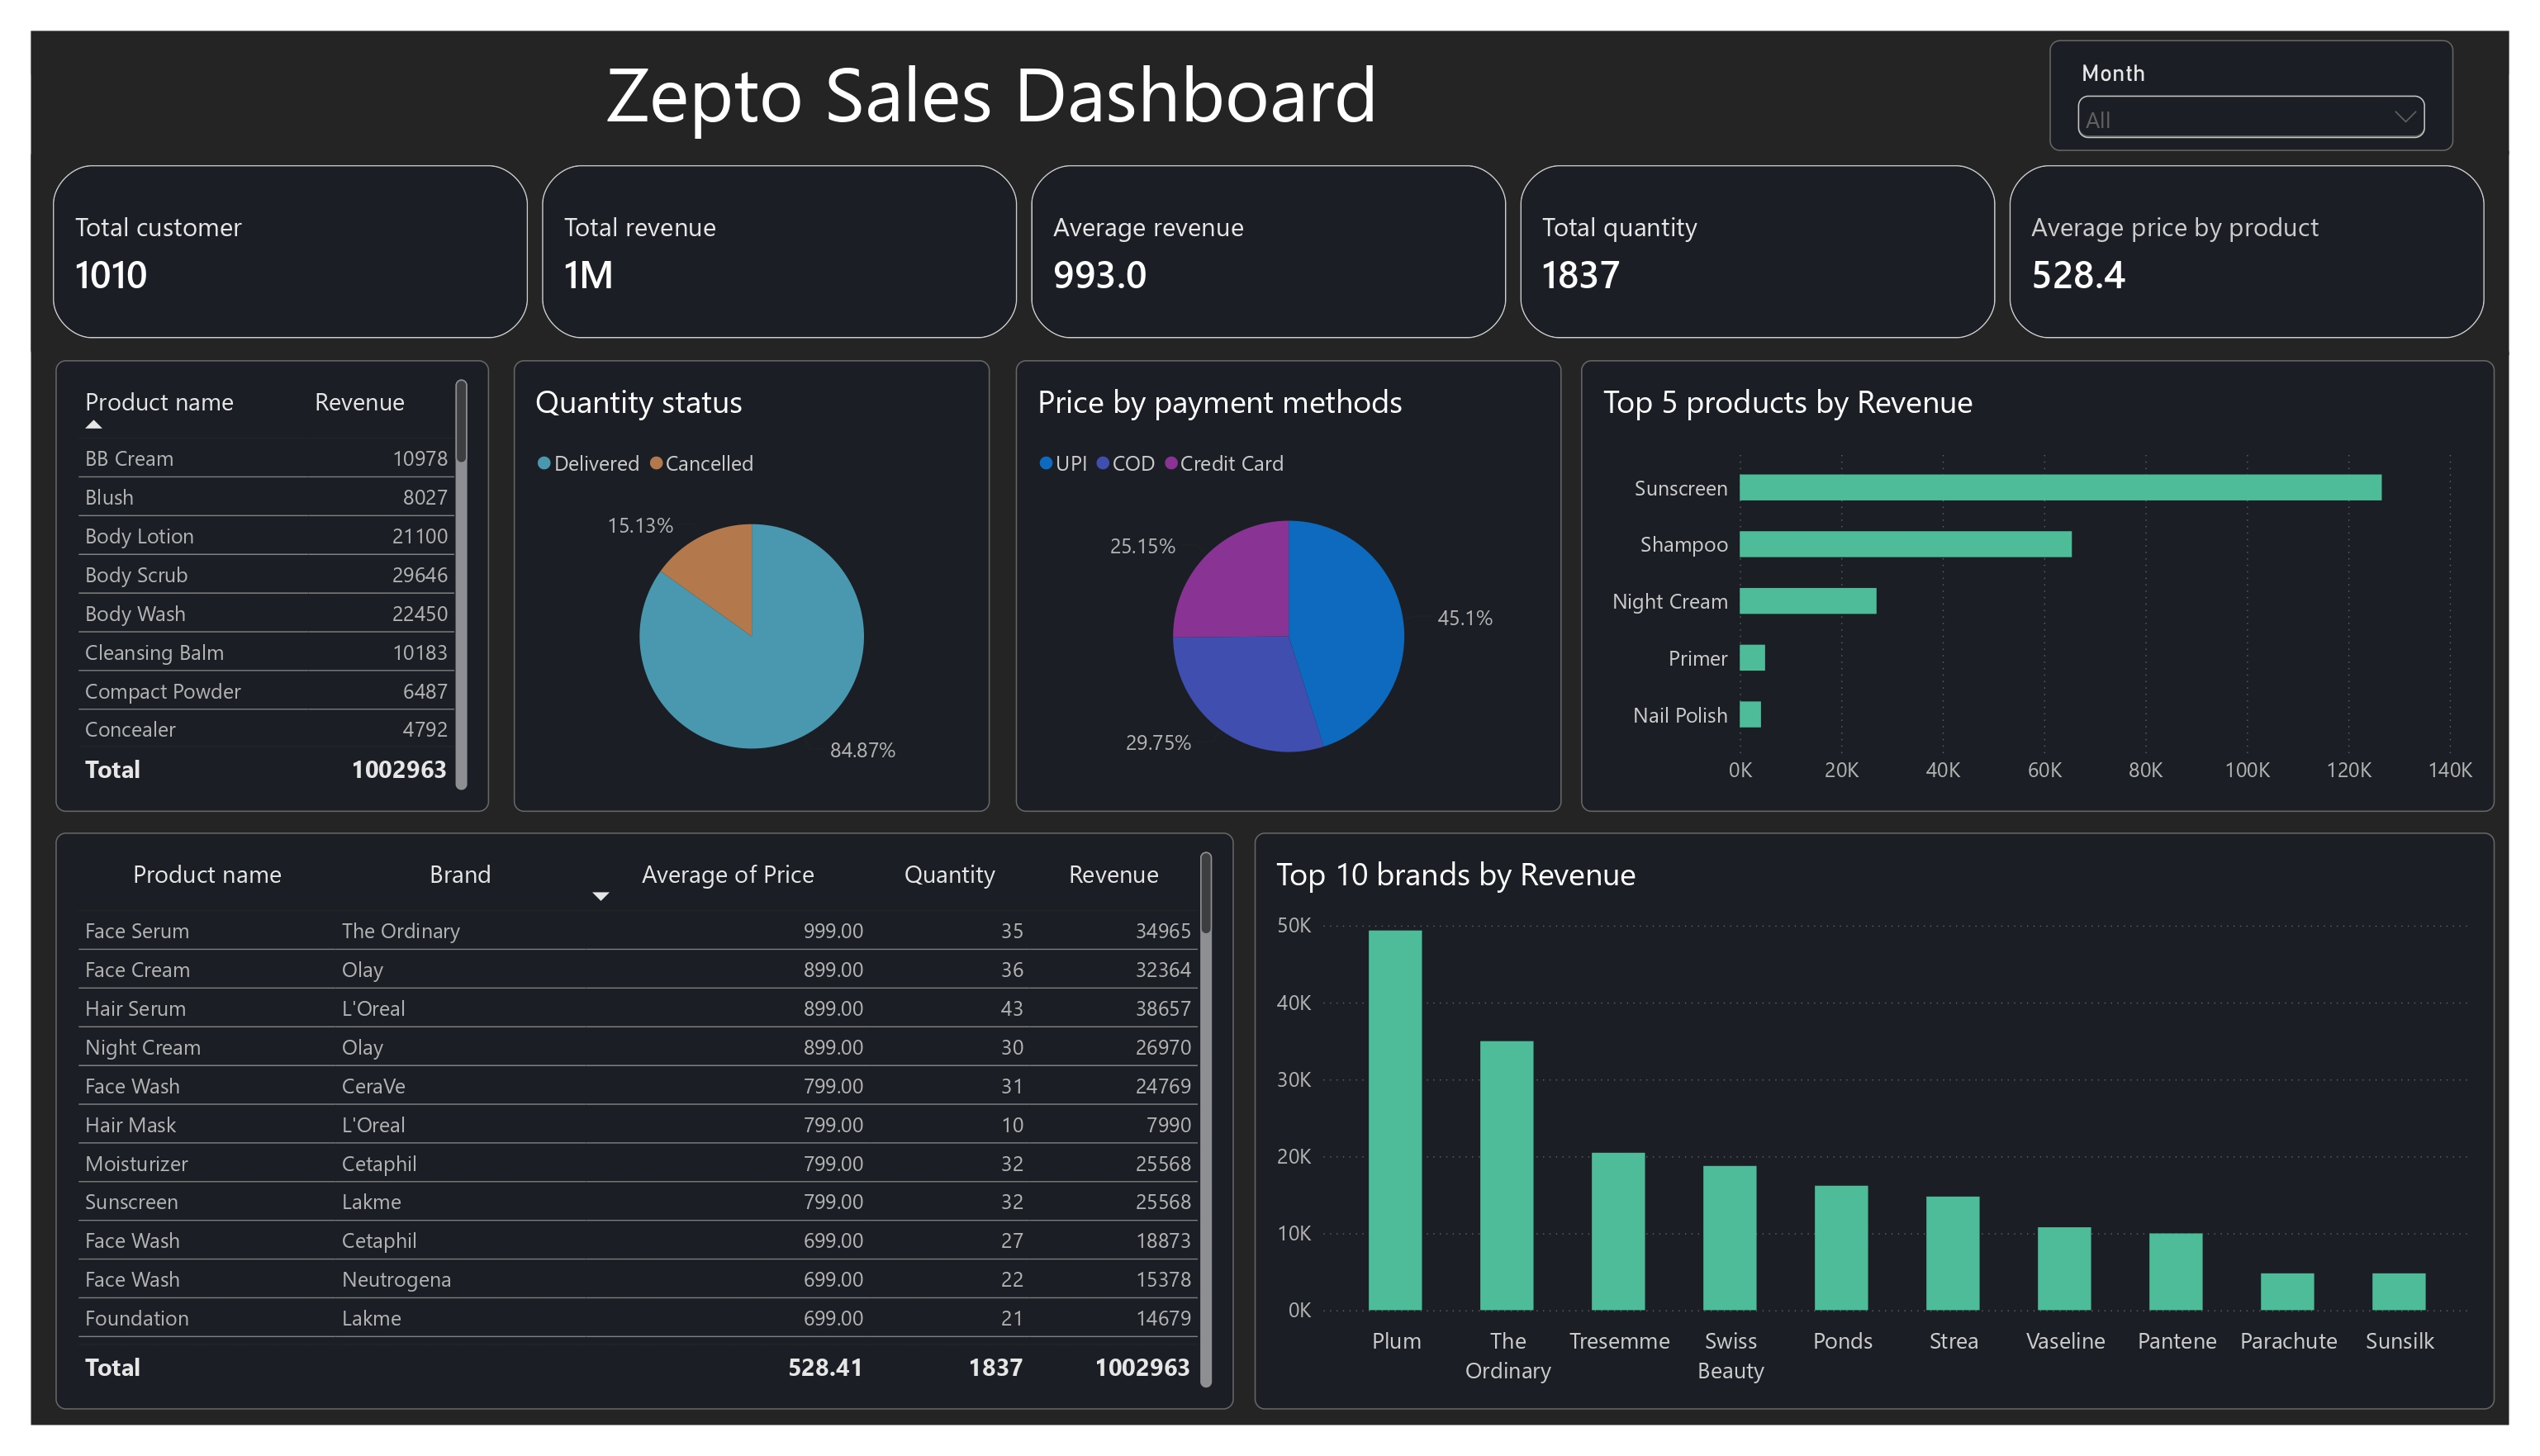

Layout of this report page (visuals, bound fields, positions):
{"tool":"powerbi","page":{"name":"Page 1","canvas":[1920,1080],"ordinal":0},"visuals":[{"type":"cardVisual","fields":{"Data":["Zepto data.Total Customer","Zepto data.Total revenue","Zepto data.Average revenue","Zepto data.Total Qty","Zepto data.Average price of product"]},"box":[0,89.1,1920.6,166.3],"z":0},{"type":"tableEx","fields":{"Values":["Zepto data.Product Name","Sum(Zepto data.Revenue)"]},"box":[18.6,255.4,336.5,349.8],"z":1000},{"type":"tableEx","fields":{"Values":["Zepto data.Product Name","Zepto data.Brand","Avg(Zepto data.Price)","Sum(Zepto data.Qty)","Sum(Zepto data.Revenue)"]},"box":[18.6,621.1,913.7,446.9],"z":2000},{"type":"barChart","title":"Top 5 products by Revenue","fields":{"Category":["Zepto data.Product Name"],"Y":["Sum(Zepto data.Revenue)"]},"box":[1201,255.4,707.6,349.8],"z":3000},{"type":"pieChart","title":"Price by payment methods","fields":{"Category":["Zepto data.Payment"],"Y":["Sum(Zepto data.Price)"]},"box":[763.4,255.4,423,349.8],"z":4000},{"type":"pieChart","title":"Quantity status","fields":{"Category":["Zepto data.Status"],"Y":["Sum(Zepto data.Qty)"]},"box":[373.7,255.4,369.8,349.8],"z":5000},{"type":"columnChart","title":"Top 10 brands by Revenue","fields":{"Category":["Zepto data.Brand"],"Y":["Sum(Zepto data.Revenue)"]},"box":[948.3,621.1,960.3,446.9],"z":6000},{"type":"slicer","fields":{"Values":["Zepto data.Date.Variation.Date Hierarchy.Month"]},"box":[1564.1,6.7,312.6,86.5],"z":7000},{"type":"textbox","box":[18.6,6.7,1452.4,86.5],"z":8000}]}

Visuals, with their boxes in screenshot pixels (x1, y1, x2, y2):
cardVisual - Zepto data.Total Customer x Zepto data.Total revenue: select_region(7, 24, 2512, 240)
tableEx - Zepto data.Product Name x Sum(Zepto data.Revenue): select_region(31, 240, 470, 697)
tableEx - Zepto data.Product Name x Zepto data.Brand: select_region(31, 718, 1223, 1301)
"Top 5 products by Revenue" barChart: select_region(1574, 240, 2496, 697)
"Price by payment methods" pieChart: select_region(1003, 240, 1555, 697)
"Quantity status" pieChart: select_region(494, 240, 976, 697)
"Top 10 brands by Revenue" columnChart: select_region(1244, 718, 2496, 1301)
slicer - Zepto data.Date.Variation.Date Hierarchy.Month: select_region(2047, 0, 2455, 29)
textbox: select_region(31, 0, 1925, 29)
